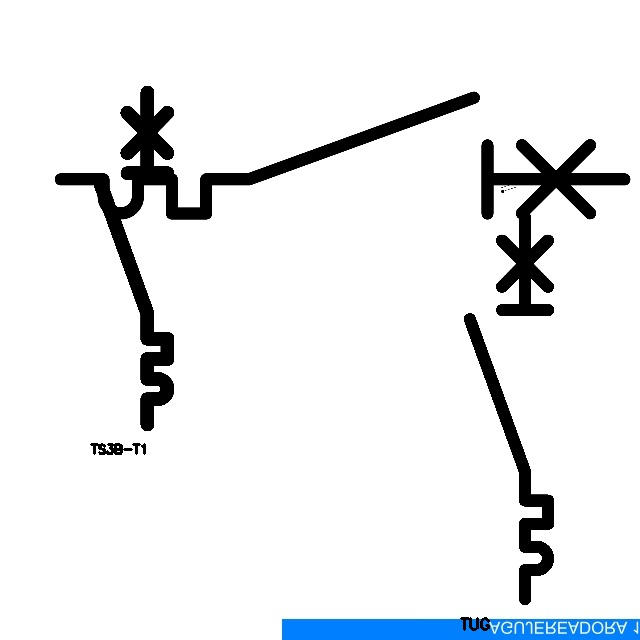interruptor_termomagnetico: (46, 83, 638, 228), (460, 207, 558, 608), (91, 84, 176, 433)
